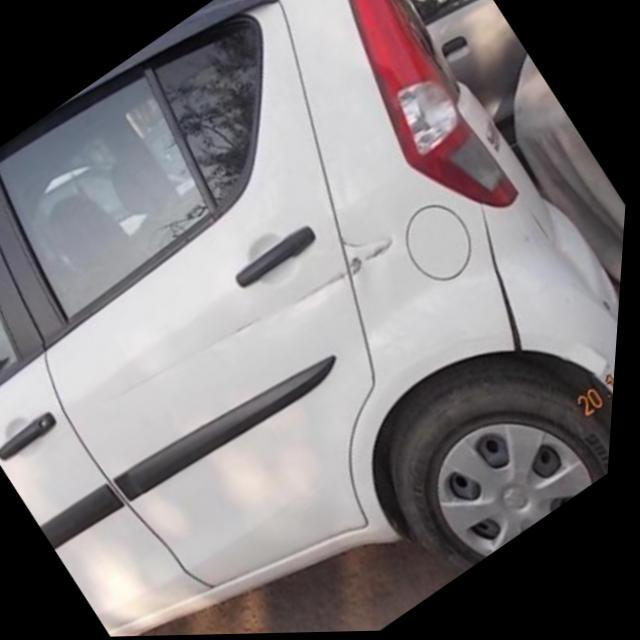dislocated part: (487, 208, 532, 354)
scratch: (127, 237, 402, 396)
